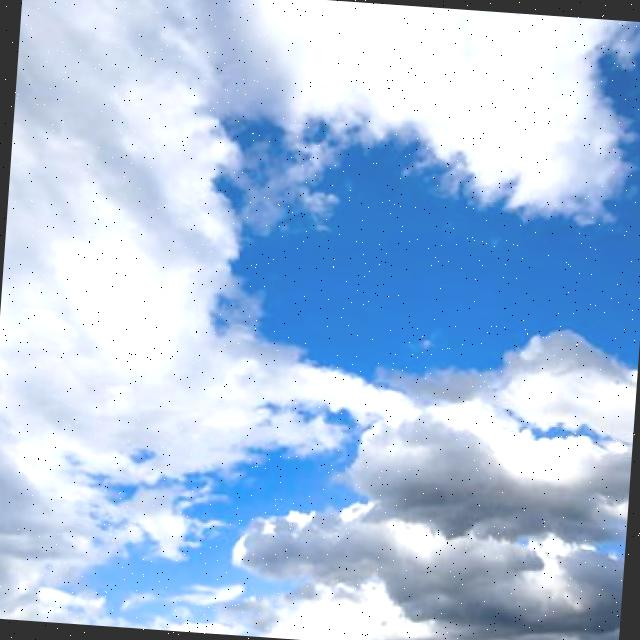As: (224, 304, 640, 640)
